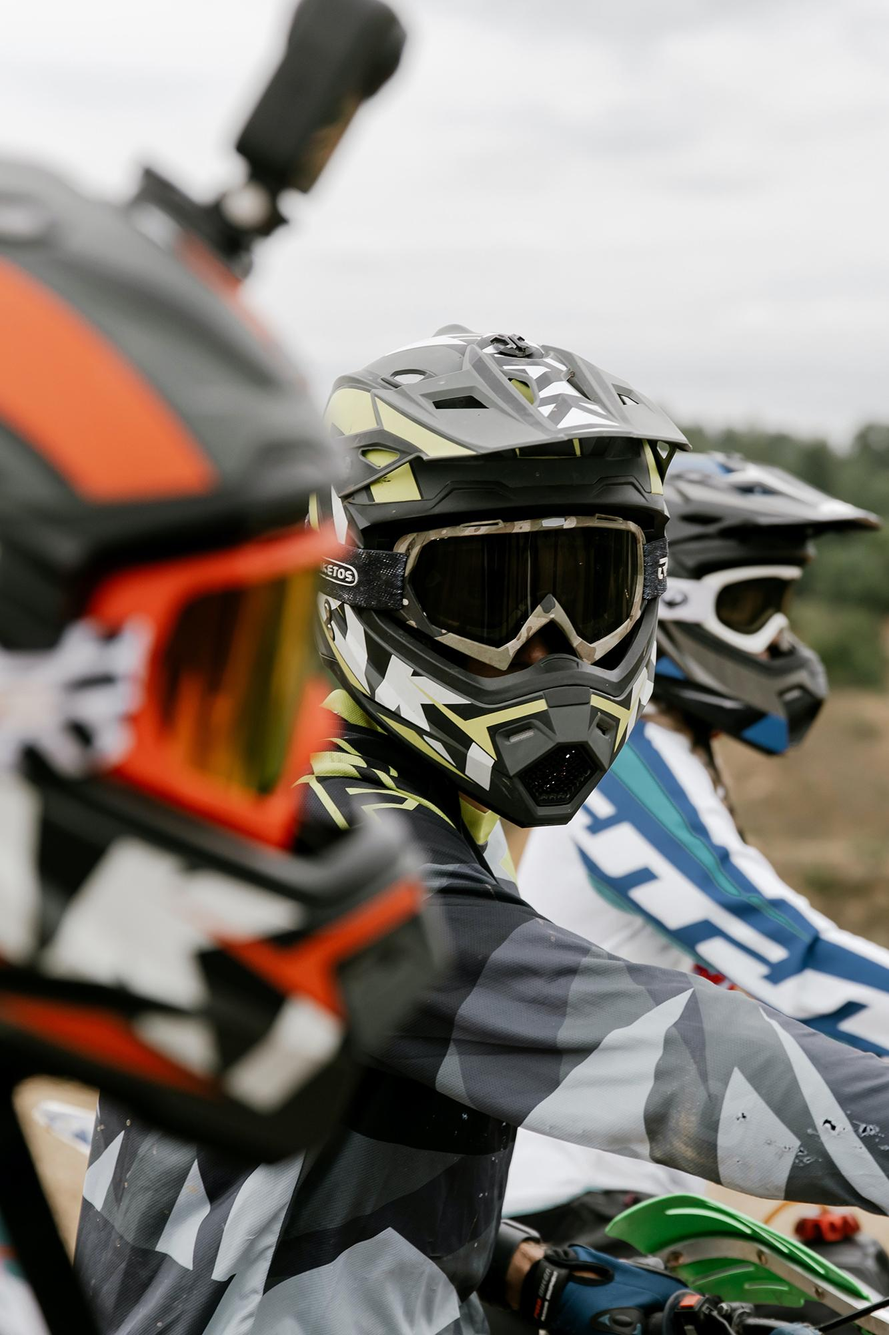helmet: (0, 147, 458, 1170), (299, 315, 694, 832), (606, 445, 888, 760)
